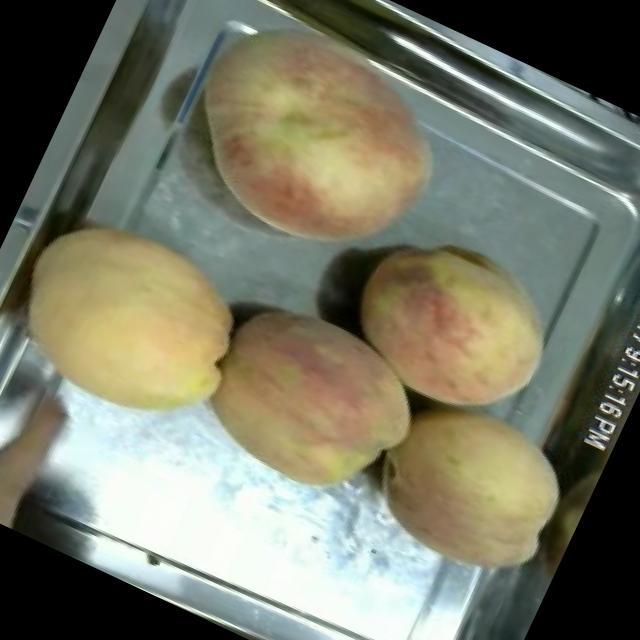Fruit: (148, 0, 481, 295), (0, 181, 275, 453), (176, 272, 452, 530), (323, 205, 582, 448), (344, 367, 598, 606)
